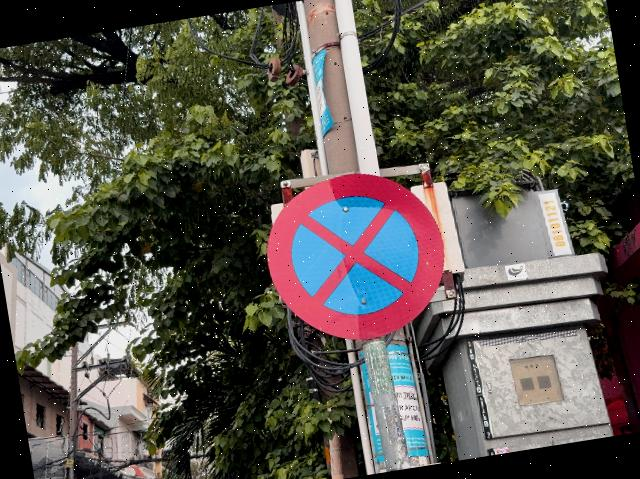cam-dung-va-do-xe: (256, 159, 457, 352)
